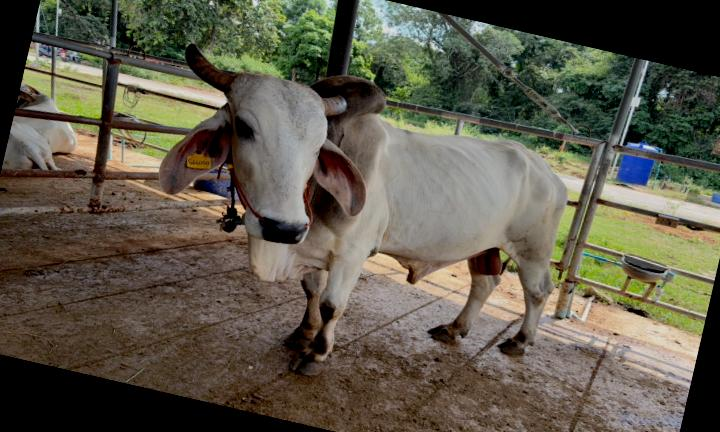Brahman: (159, 44, 567, 375)
